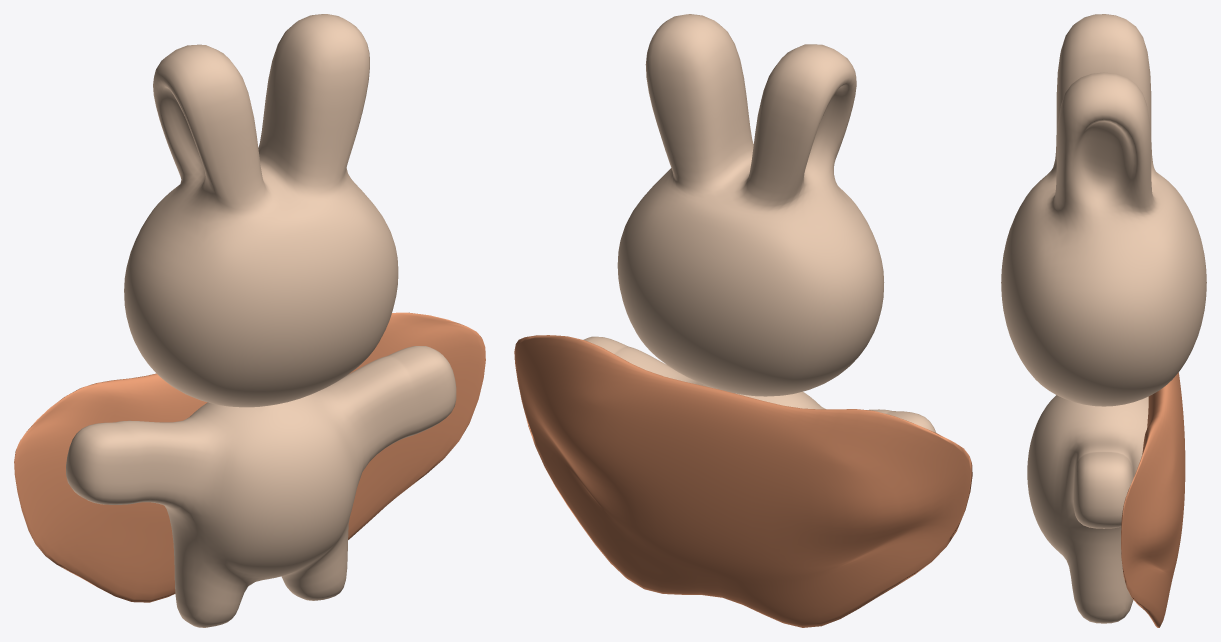
Rendered from momonga_5.fbx.
3 renders of one model, left to right at view 1: azimuth 30°, elevation 25°; view 2: azimuth 150°, elevation 25°; view 3: azimuth 270°, elevation 25°, orthographic. The views are drawn at different scales.
Visible parts, largest first — view 1: Cube, Cube.001, 立方体; view 2: 立方体, Cube, Cube.001; view 3: Cube, Cube.001, 立方体.
Boxes of the visible parts, box(x1,y1,x2,y2) form: Cube: box(124, 14, 398, 407); Cube.001: box(66, 346, 456, 627); 立方体: box(14, 312, 485, 602); 立方体: box(514, 335, 972, 627); Cube: box(617, 14, 884, 396); Cube.001: box(583, 336, 936, 432); Cube: box(1001, 14, 1206, 406); Cube.001: box(1027, 395, 1148, 623); 立方体: box(1121, 372, 1185, 627).
Bounding box in the file's own units: 105 × 122 × 41.7.
